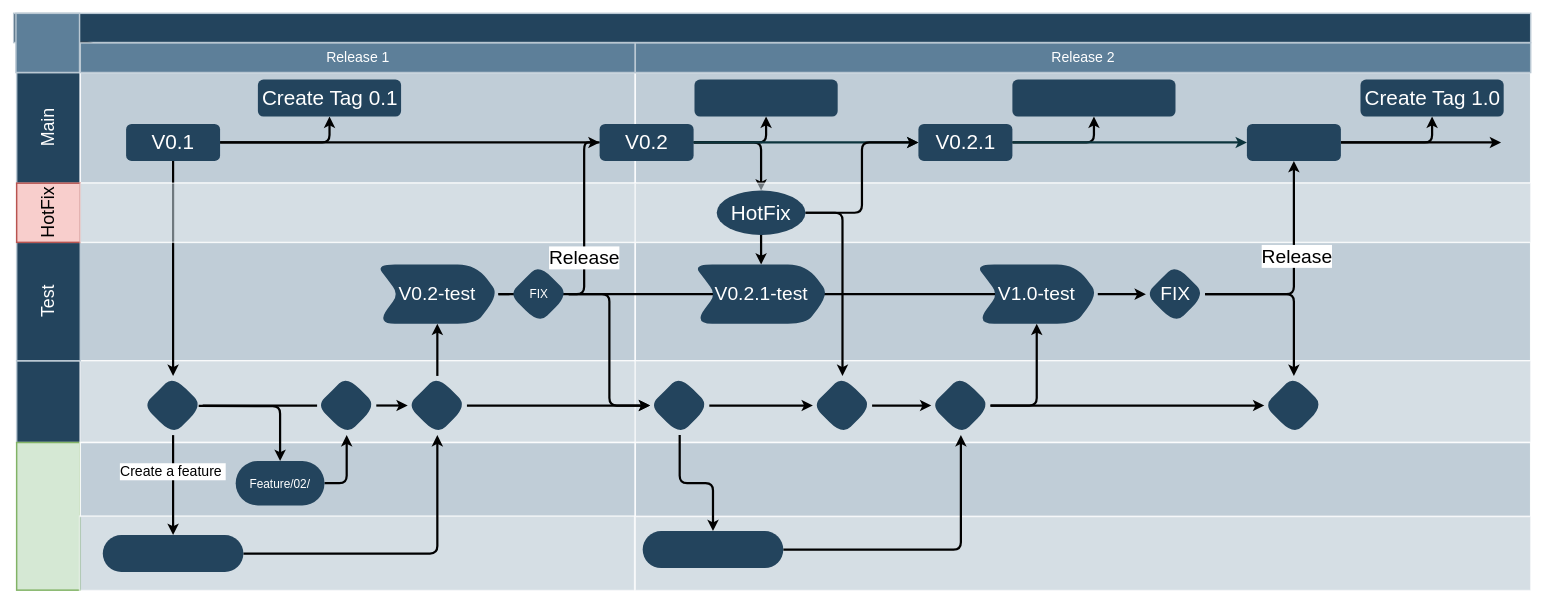
This 1544x604 diagram has some shape labels left out. The box of each missing label's shape, as (x1, y1, x2, y2) in pixels:
BugFix/03/new exemple: (642, 531, 783, 568)
Create Tag 0.2: (694, 79, 837, 116)
Create Tag 0.2.1: (1012, 79, 1175, 116)
Develop: (16, 360, 81, 443)
Feature/01/new exemple: (102, 535, 243, 572)
Features: (16, 441, 81, 591)
Github Workflow: (13, 12, 1531, 43)
V1.0: (1247, 124, 1341, 161)
